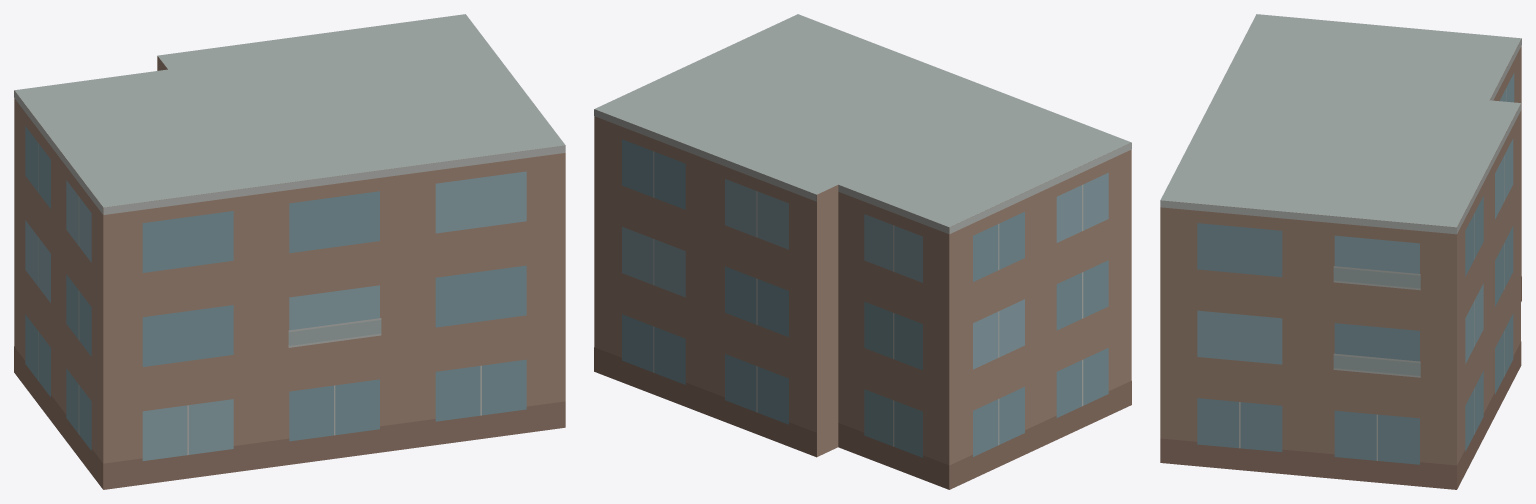
The model's file is survey-upis-32813620.glb.
3 renders of one model, left to right at view 1: azimuth 30°, elevation 25°; view 2: azimuth 150°, elevation 25°; view 3: azimuth 270°, elevation 25°, orthographic. The views are drawn at different scales.
Parts seen in each view (by area): view 1: survey-upis-32813620.tmp; view 2: survey-upis-32813620.tmp; view 3: survey-upis-32813620.tmp.
Boxes of the visible parts, box(x1,y1,x2,y2) form: survey-upis-32813620.tmp: box(14, 14, 565, 489); survey-upis-32813620.tmp: box(594, 14, 1131, 489); survey-upis-32813620.tmp: box(1160, 14, 1521, 489).
Size of the model in its own units: 15.96 by 9.15 by 11.43.
